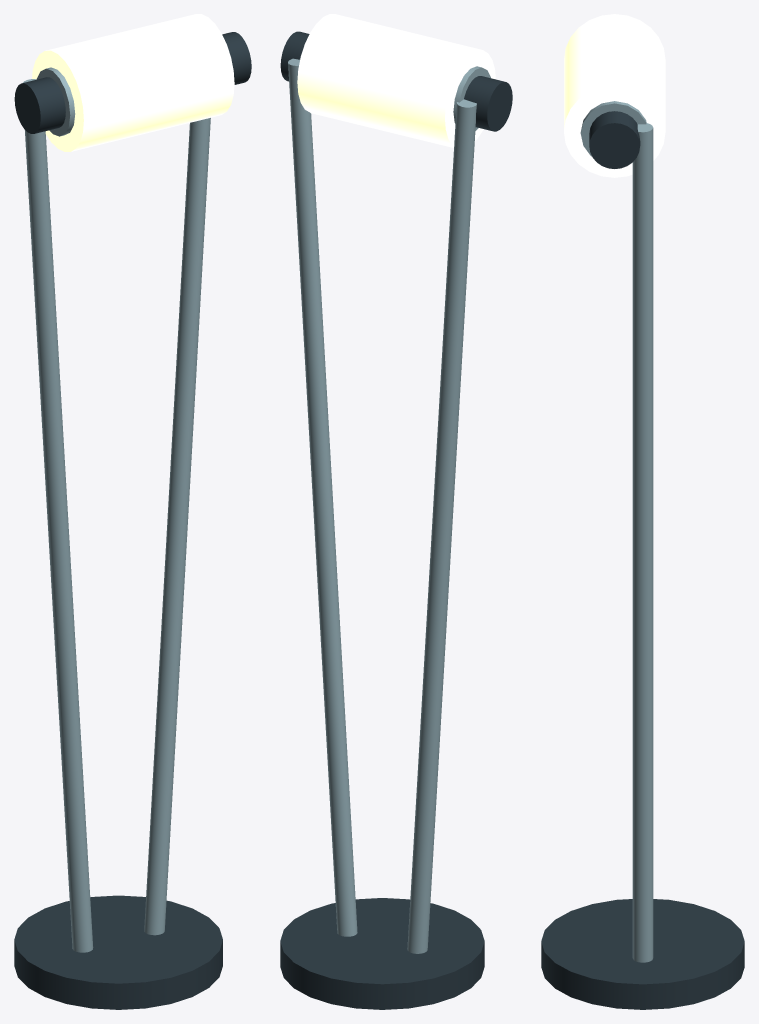
3 renders of one model, left to right at view 1: azimuth 30°, elevation 25°; view 2: azimuth 150°, elevation 25°; view 3: azimuth 270°, elevation 25°, orthographic. The views are drawn at different scales.
Visible parts, largest first — view 1: orbit-base, diffuser-panel, tripod-left, tripod-right, orbit-ring, orbit-collar-left; view 2: tripod-left, tripod-right, orbit-base, diffuser-panel, orbit-ring, orbit-collar-left; view 3: tripod-right, orbit-base, diffuser-panel, orbit-ring, orbit-collar-right.
Boxes of the visible parts, x1,y1,x2,y2 form: orbit-base: (14, 895, 222, 1009); diffuser-panel: (32, 14, 234, 151); tripod-left: (23, 79, 93, 952); tripod-right: (144, 118, 210, 935); orbit-ring: (14, 32, 251, 133); orbit-collar-left: (36, 67, 75, 136); tripod-left: (407, 99, 476, 953); tripod-right: (288, 58, 357, 936); orbit-base: (280, 898, 484, 1009); diffuser-panel: (297, 14, 495, 147); orbit-ring: (280, 31, 512, 131); orbit-collar-left: (453, 66, 490, 130); tripod-right: (632, 123, 653, 962); orbit-base: (541, 899, 744, 1009); diffuser-panel: (564, 14, 665, 177); orbit-ring: (589, 111, 640, 168); orbit-collar-right: (580, 101, 646, 156).
Size of the model in its own units: 0.42 by 1.79 by 0.36.
